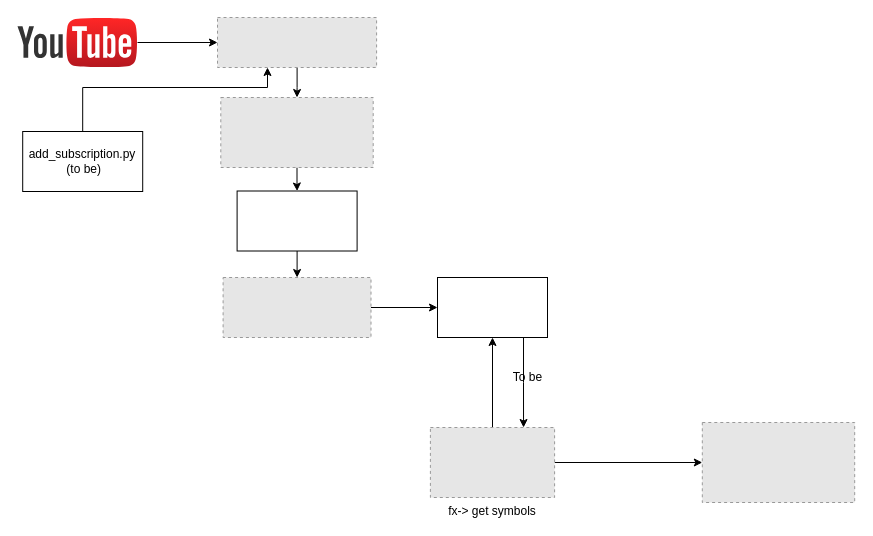
This 873x536 diagram has some shape labels left out. Grey dashed boxes stand in for pictures. Each missing label, with the centre of its shape:
main.py (get_messages): the point at 492,307
pytubepubsub.py: the point at 296,220
